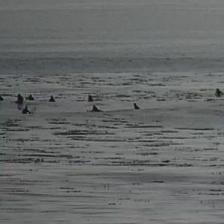surfer: (16, 94, 24, 106), (215, 88, 224, 97), (21, 106, 31, 114), (92, 104, 101, 112), (133, 102, 141, 110), (27, 94, 35, 101), (87, 95, 94, 102), (49, 96, 56, 102)
